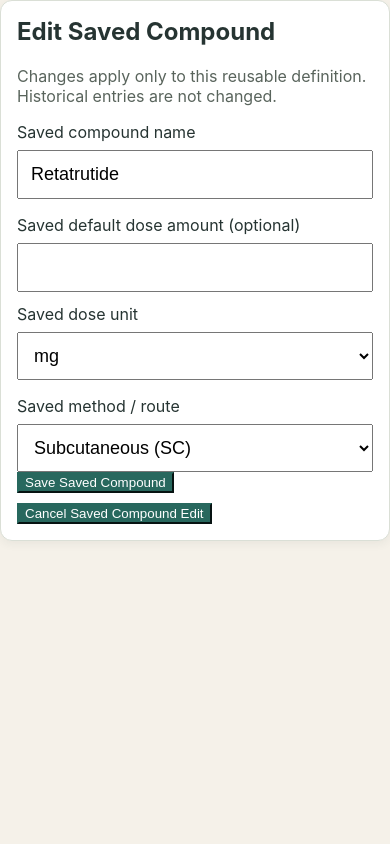
keeps the editor open when catalog persistence fails
Replace the text in the field labelled "Saved compound name" with "Retry compound": (195, 174) [17,150,373,199]
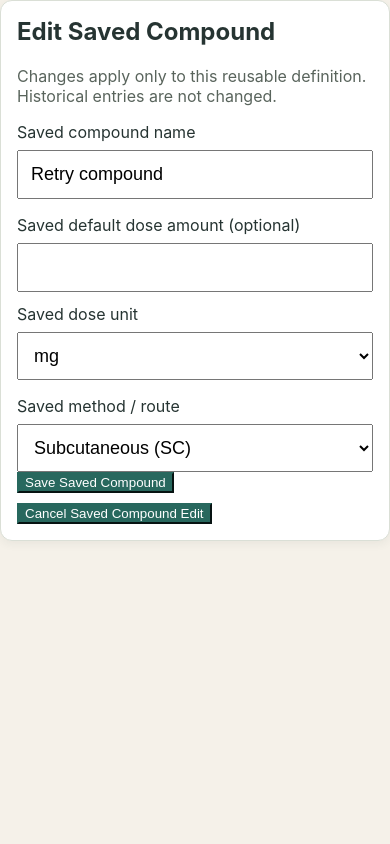
Click the button "Save Saved Compound": (95, 482) [17,472,174,493]
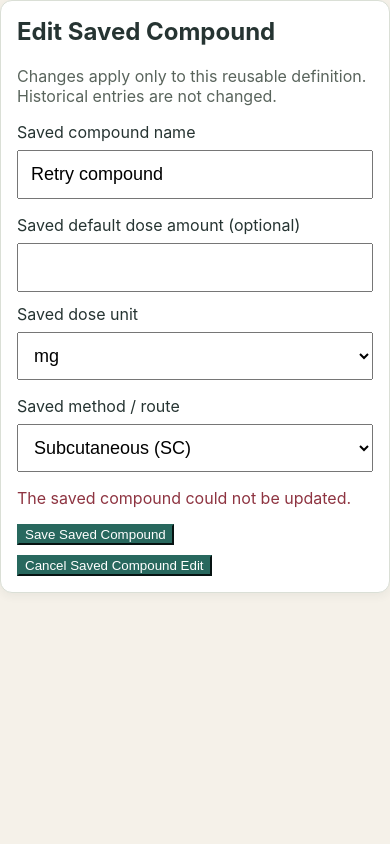
Result: the message reads "The saved compound could not be updated." at [17,488,351,508]
